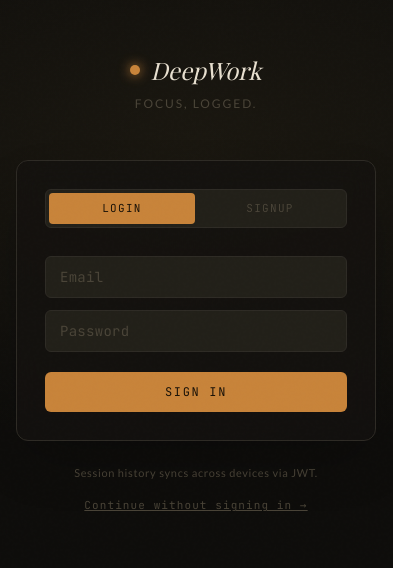
Test: AuthUI (AuthScreen Component) › should show error when signup is missing name
# Switch to Signup
Click the button "signup" at (270, 209), box [197,193,343,224]
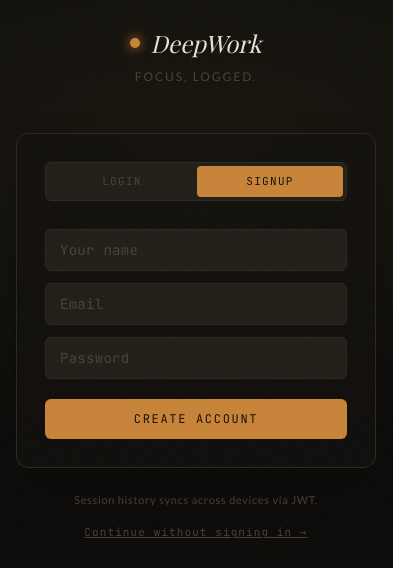
Type "user@example.com" into the field with placeholder "Email" at (196, 304), box [45,283,347,325]
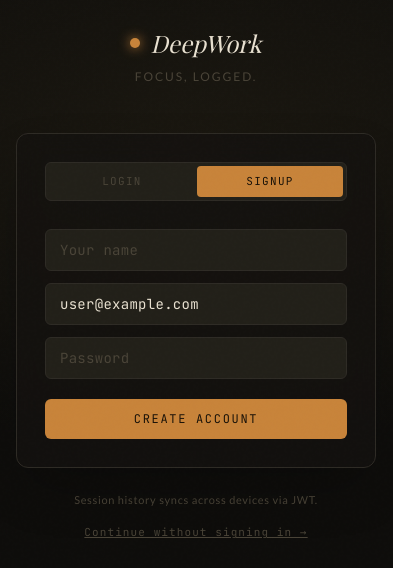
Type "pass123" into the password field with placeholder "Password" at (196, 358), box [45,337,347,379]
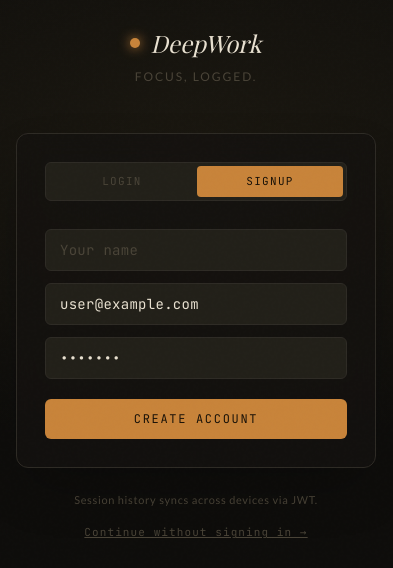
Click the button "CREATE ACCOUNT" at (196, 419), box [45,399,347,439]
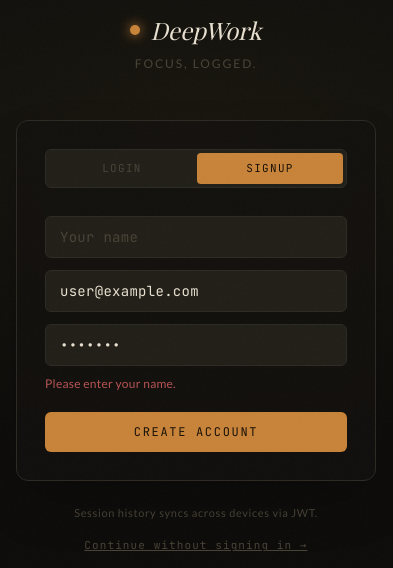
Check: the text "Please enter your name." is shown, box [45,376,176,391]
